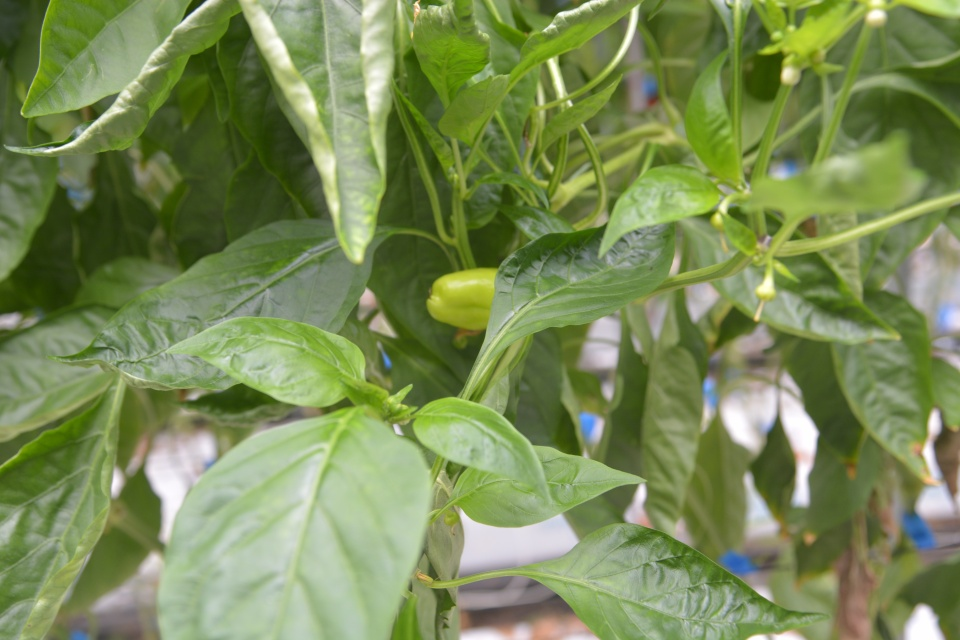immature: (420, 264, 502, 333)
